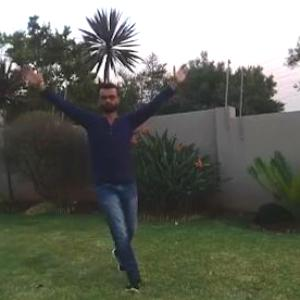takeoff: (20, 65, 190, 283)
